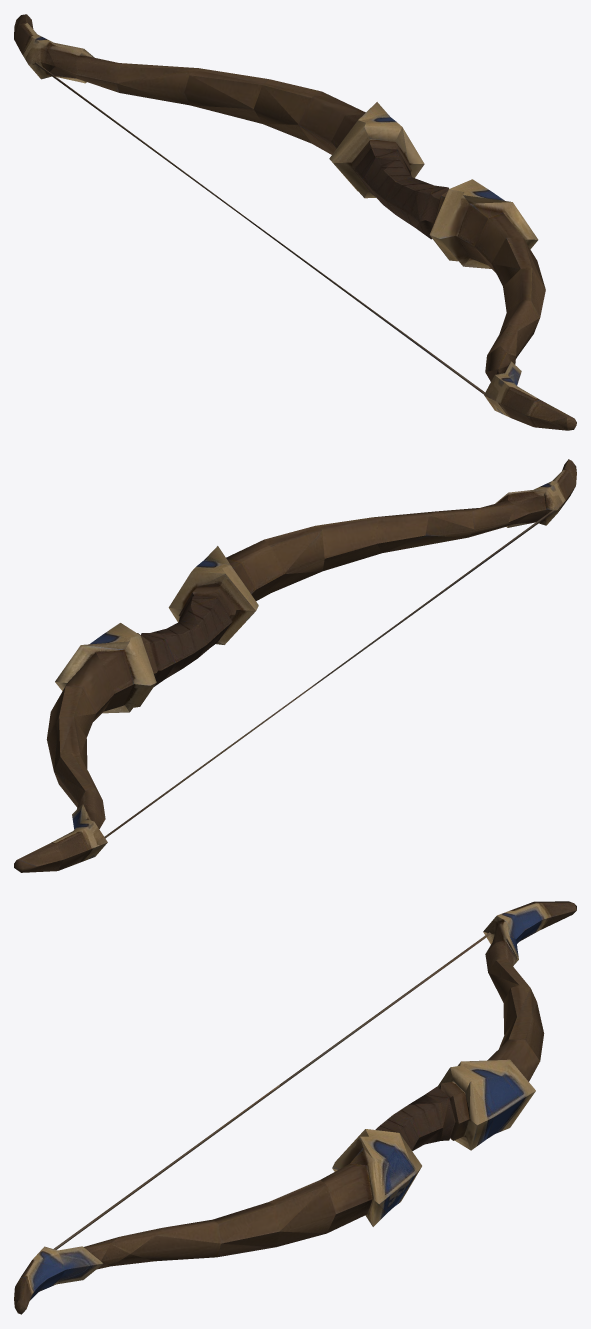
File: 1103_bow.glb
3 renders of one model, top to bottom at view 1: azimuth 30°, elevation 25°; view 2: azimuth 150°, elevation 25°; view 3: azimuth 330°, elevation 25°, orthographic.
Parts seen in each view (by area): view 1: Model; view 2: Model; view 3: Model.
Boxes of the visible parts, x1,y1,x2,y2 form: Model: (14, 14, 576, 430); Model: (14, 459, 576, 872); Model: (14, 901, 576, 1314).
Bounding box in the file's own units: 0.2121 × 0.0713 × 1.
1 material, 1 textured.
